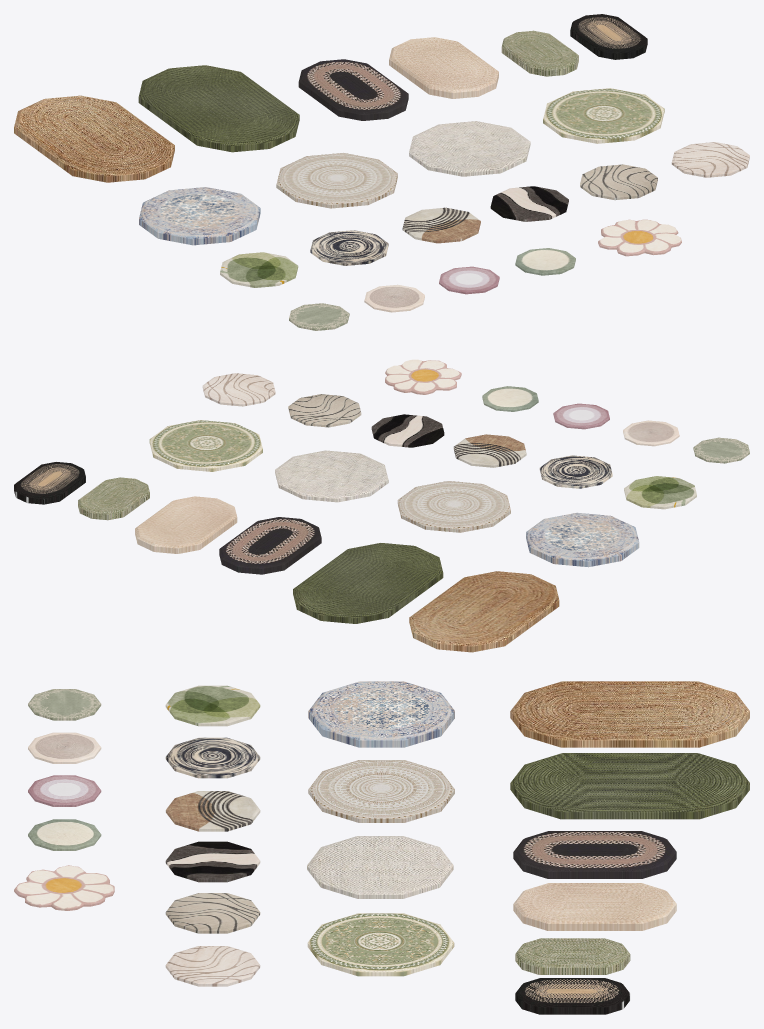
File: low-poly_psx_style_round_rugs_pack.glb
The picture shows the model from 3 angles, top to bottom: view 1: azimuth 30°, elevation 25°; view 2: azimuth 150°, elevation 25°; view 3: azimuth 270°, elevation 25°; orthographic projection. The views are drawn at different scales.
Visible parts, largest first — view 1: Round Rugs_016, Round Rugs_015, Round Rugs_006, Round Rugs_009, Round Rugs_008, Round Rugs_007, Round Rugs_017, Round Rugs_018, Round Rugs_019, Round Rugs_020, Circle, Round Rugs_003 (+9 smaller); view 2: Round Rugs_015, Round Rugs_016, Round Rugs_006, Round Rugs_009, Round Rugs_008, Round Rugs_007, Round Rugs_017, Round Rugs_018, Round Rugs_019, Round Rugs_020, Circle, Round Rugs_010 (+9 smaller); view 3: Round Rugs_015, Round Rugs_016, Round Rugs_006, Round Rugs_008, Round Rugs_009, Round Rugs_007, Round Rugs_018, Round Rugs_017, Round Rugs_019, Round Rugs_020, Circle, Round Rugs_004 (+9 smaller).
Boxes of the visible parts, bbox=[...] form: Round Rugs_016: bbox=[138, 65, 299, 152]; Round Rugs_015: bbox=[14, 95, 174, 182]; Round Rugs_006: bbox=[139, 187, 260, 245]; Round Rugs_009: bbox=[409, 121, 530, 176]; Round Rugs_008: bbox=[543, 88, 664, 143]; Round Rugs_007: bbox=[276, 153, 397, 208]; Round Rugs_017: bbox=[298, 59, 408, 120]; Round Rugs_018: bbox=[389, 37, 498, 98]; Round Rugs_019: bbox=[501, 30, 578, 76]; Round Rugs_020: bbox=[570, 14, 647, 59]; Circle: bbox=[598, 219, 681, 256]; Round Rugs_003: bbox=[402, 207, 480, 243]; Round Rugs_015: bbox=[409, 571, 559, 652]; Round Rugs_016: bbox=[293, 543, 443, 623]; Round Rugs_006: bbox=[526, 512, 639, 567]; Round Rugs_009: bbox=[275, 450, 388, 502]; Round Rugs_008: bbox=[149, 420, 262, 471]; Round Rugs_007: bbox=[397, 481, 510, 532]; Round Rugs_017: bbox=[219, 517, 321, 574]; Round Rugs_018: bbox=[135, 496, 237, 553]; Round Rugs_019: bbox=[78, 477, 149, 520]; Round Rugs_020: bbox=[14, 462, 85, 504]; Circle: bbox=[385, 359, 461, 394]; Round Rugs_010: bbox=[202, 373, 275, 406]; Round Rugs_015: bbox=[510, 681, 749, 747]; Round Rugs_016: bbox=[510, 753, 749, 819]; Round Rugs_006: bbox=[308, 681, 454, 747]; Round Rugs_008: bbox=[307, 913, 454, 976]; Round Rugs_009: bbox=[307, 836, 453, 898]; Round Rugs_007: bbox=[308, 760, 454, 822]; Round Rugs_018: bbox=[513, 883, 676, 930]; Round Rugs_017: bbox=[513, 831, 676, 878]; Round Rugs_019: bbox=[515, 938, 630, 974]; Round Rugs_020: bbox=[515, 978, 630, 1014]; Circle: bbox=[14, 865, 114, 910]; Round Rugs_004: bbox=[165, 841, 260, 882].
Size of the model in its own units: 6.15 by 0.0821 by 5.87.
1 material, 1 textured.
